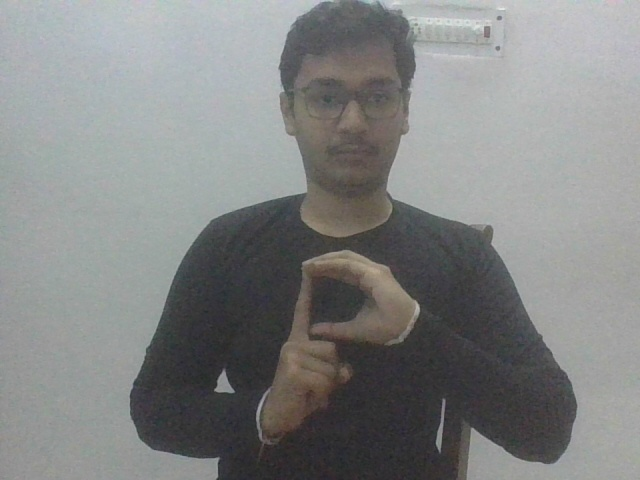D: (255, 248, 423, 445)
